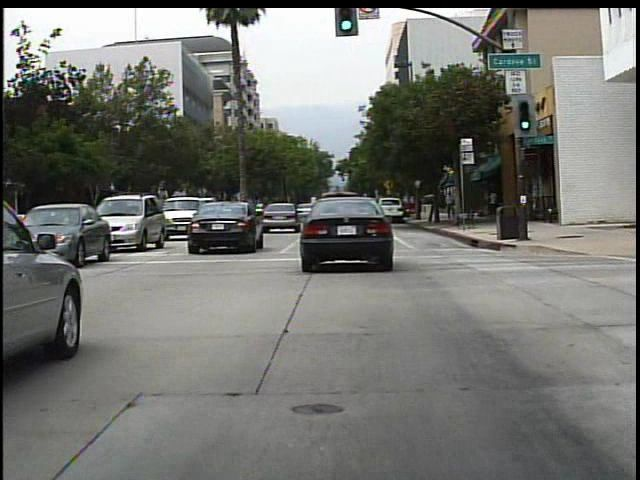person: (442, 190, 462, 223)
